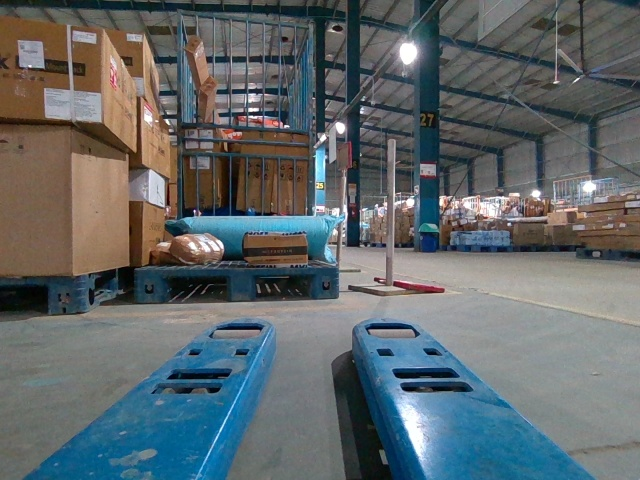block: (48, 274, 86, 313), (133, 270, 164, 300), (311, 266, 339, 298), (229, 268, 255, 302)
front: (136, 267, 339, 301)
hole pallet: (252, 273, 314, 302), (164, 279, 228, 300)
